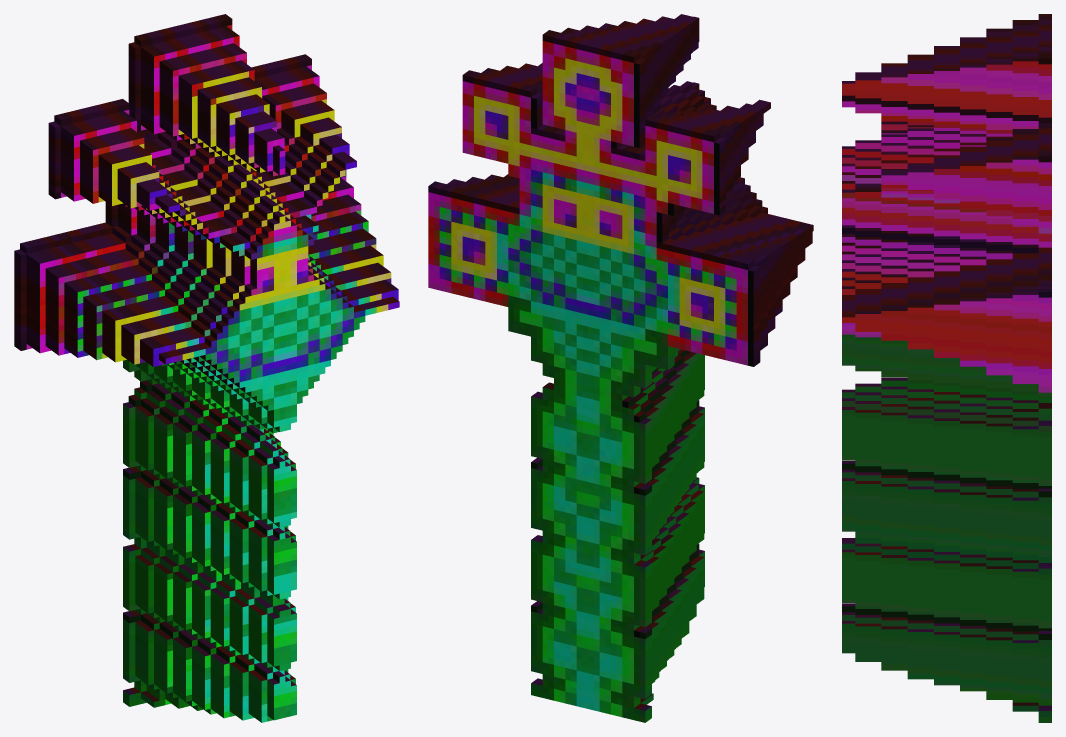
The model's file is dreamlingP13.obj.
3 views of the same model, side by side, from view 1: azimuth 30°, elevation 25°; view 2: azimuth 150°, elevation 25°; view 3: azimuth 270°, elevation 25° (orthographic).
Size of the model in its own units: 57 by 111 by 32.
